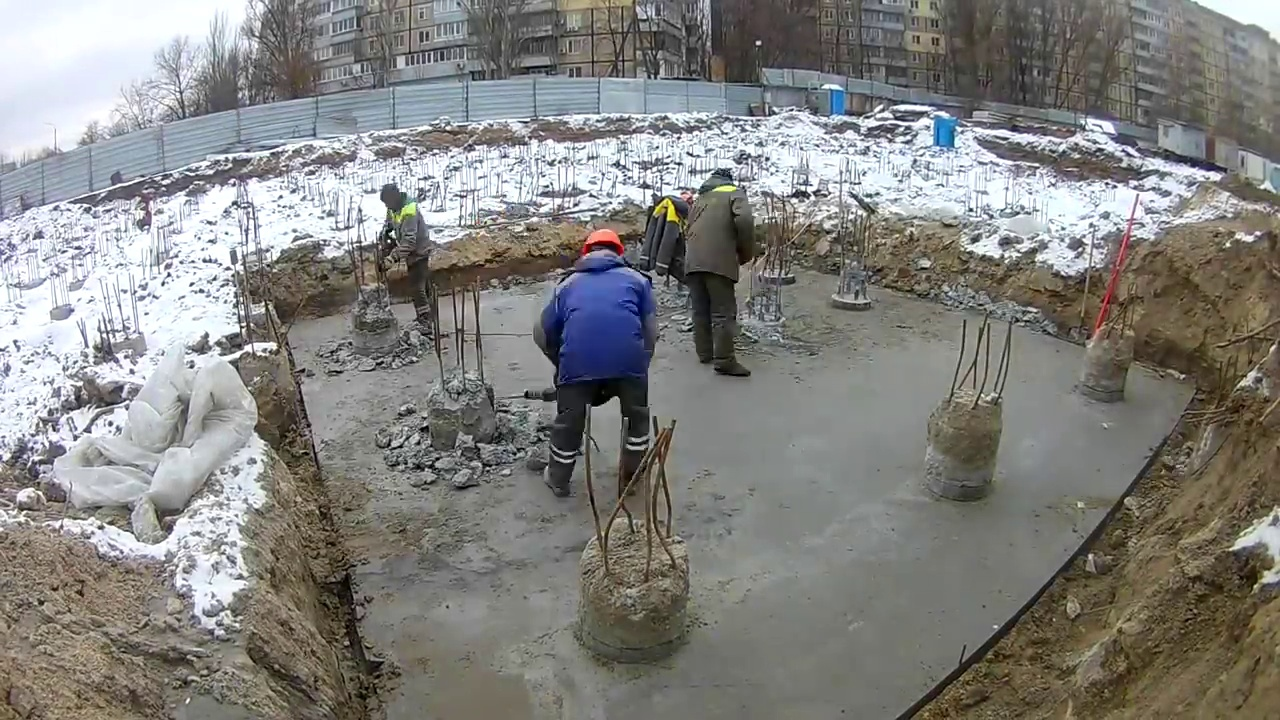helmet: (580, 229, 625, 256)
helmet-off: (380, 185, 409, 219), (701, 166, 734, 190)
helmet-on: (576, 228, 626, 270)
person: (531, 227, 665, 505), (685, 165, 756, 379), (377, 186, 440, 337)
